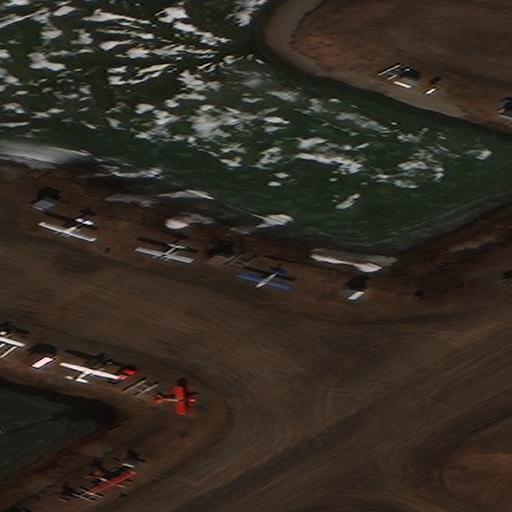Small Civil Transport: (236, 269, 296, 292), (38, 219, 92, 242), (61, 361, 120, 381), (153, 386, 195, 414), (133, 244, 190, 264), (89, 473, 136, 494), (0, 329, 25, 346)
